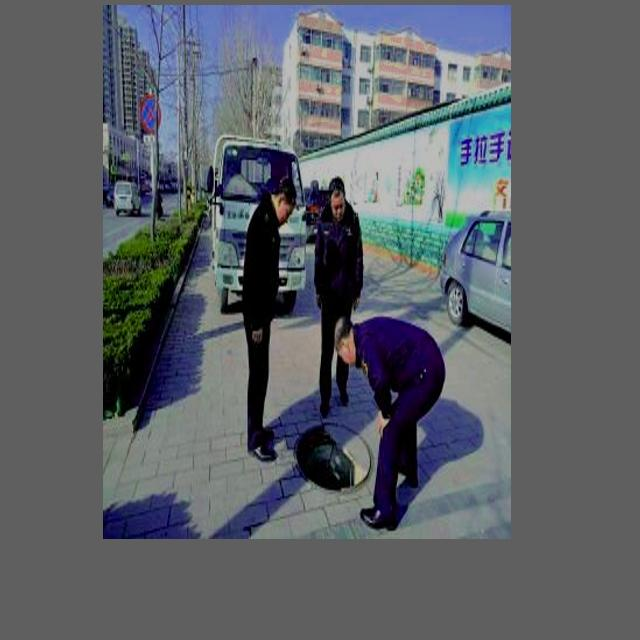broke: (287, 406, 382, 494)
